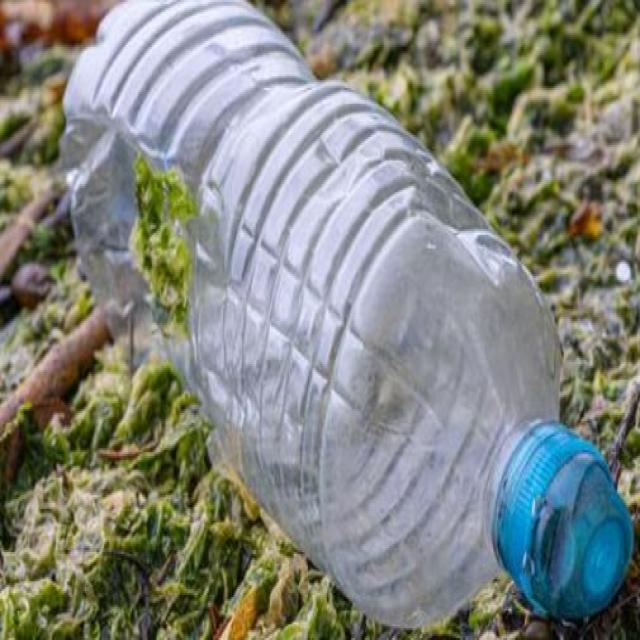general: (56, 0, 635, 632)
